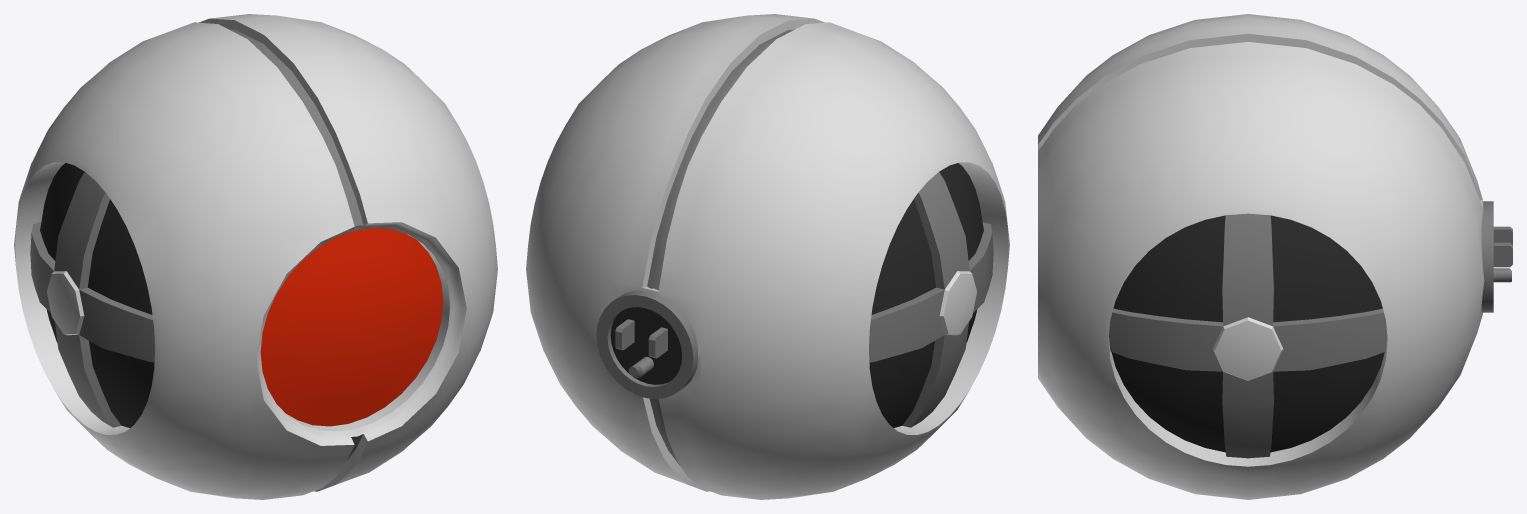
The model's file is CORE.fbx.
3 views of the same model, side by side, from view 1: azimuth 30°, elevation 25°; view 2: azimuth 150°, elevation 25°; view 3: azimuth 270°, elevation 25° (orthographic).
Parts seen in each view (by area): view 1: Core; view 2: Core; view 3: Core.
Boxes of the visible parts, x1,y1,x2,y2 form: Core: (14, 14, 497, 499); Core: (526, 14, 1009, 499); Core: (1038, 14, 1512, 499).
Bounding box in the file's own units: 241 × 257 × 252.
